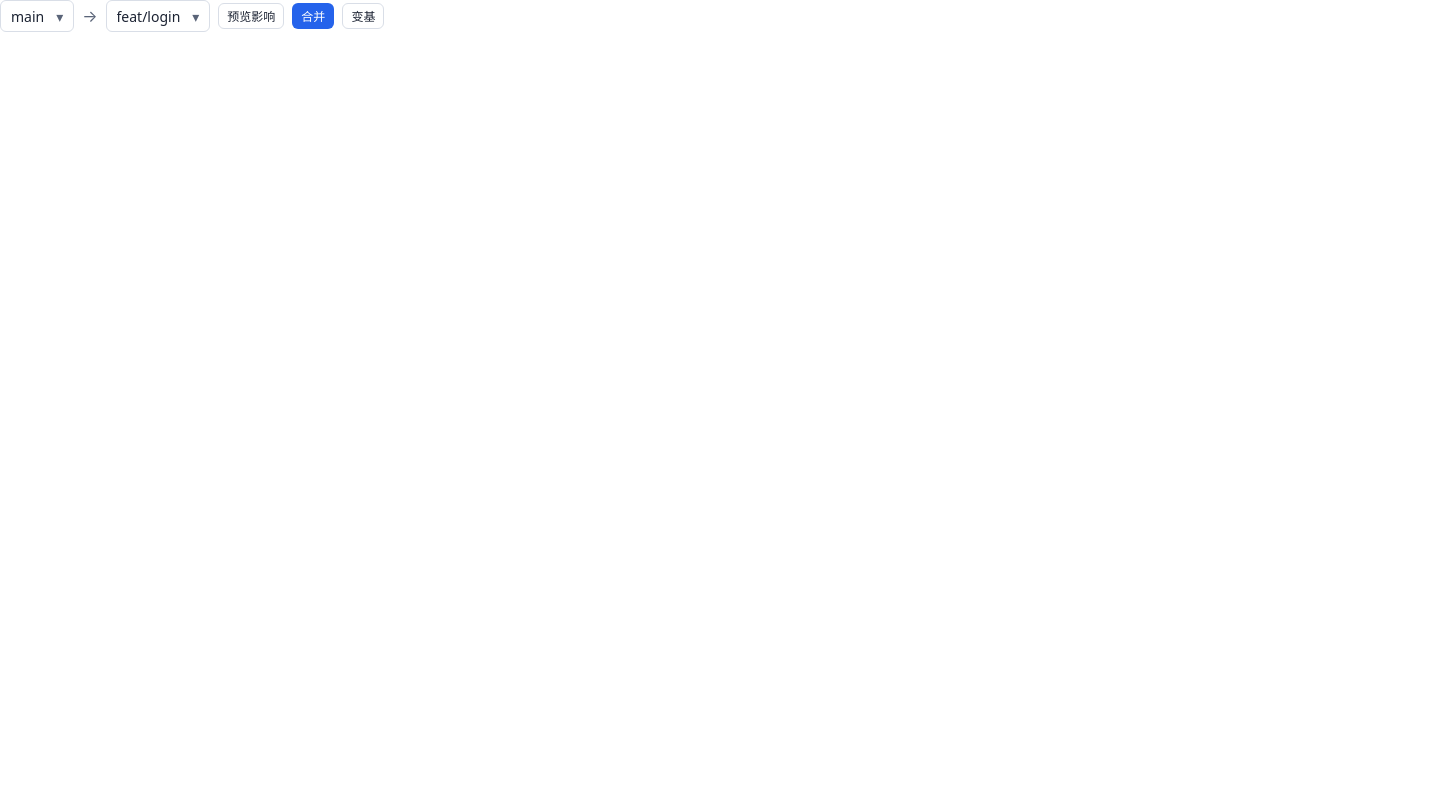
it: MergePanel（T6-04 合并） › 合并结果展示状态、冲突文件清单与备份分支
Click the button with test id "merge-start".
click(313, 16)  # box [292,3,334,29]
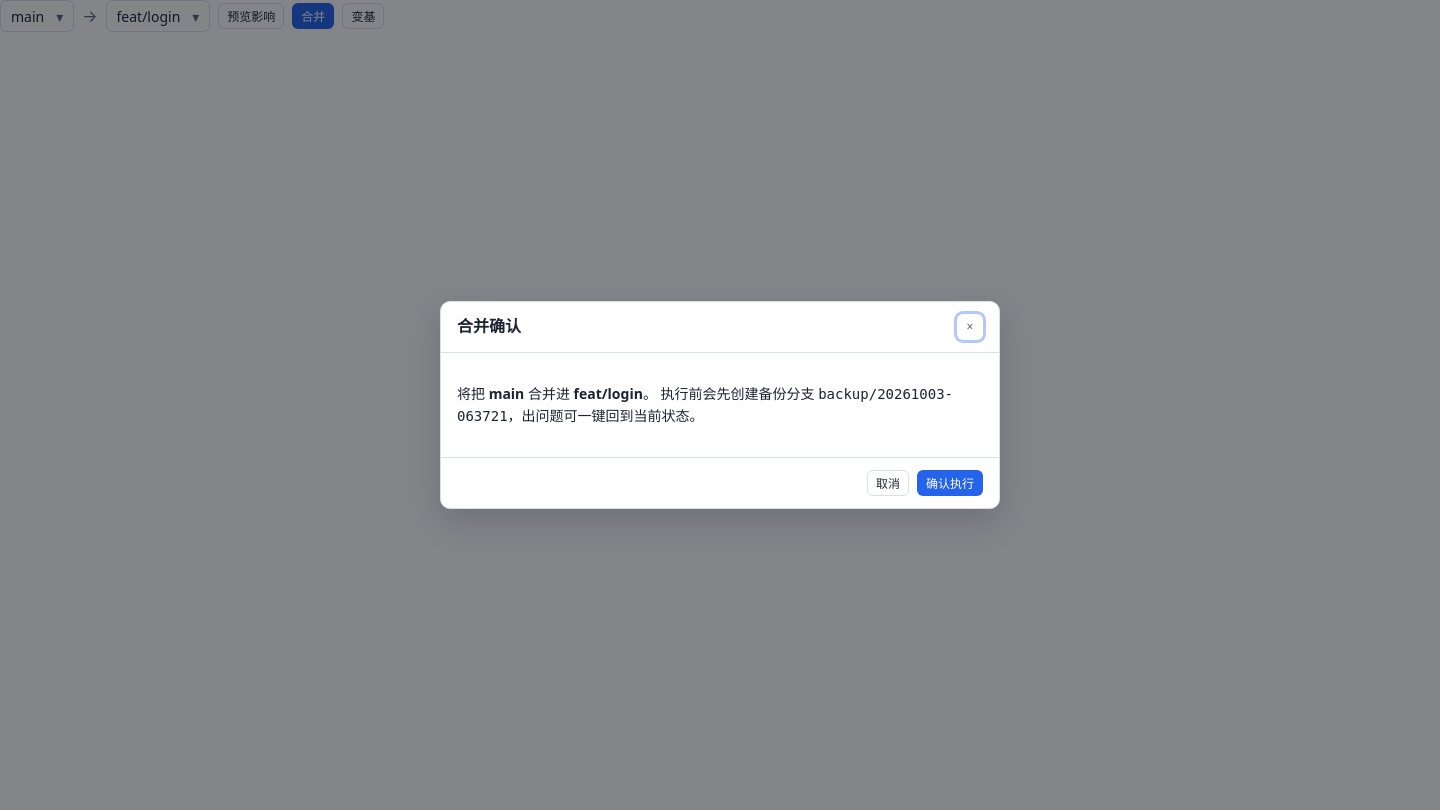
Click the button with test id "merge-confirm".
click(950, 483)  # box [917,470,983,496]
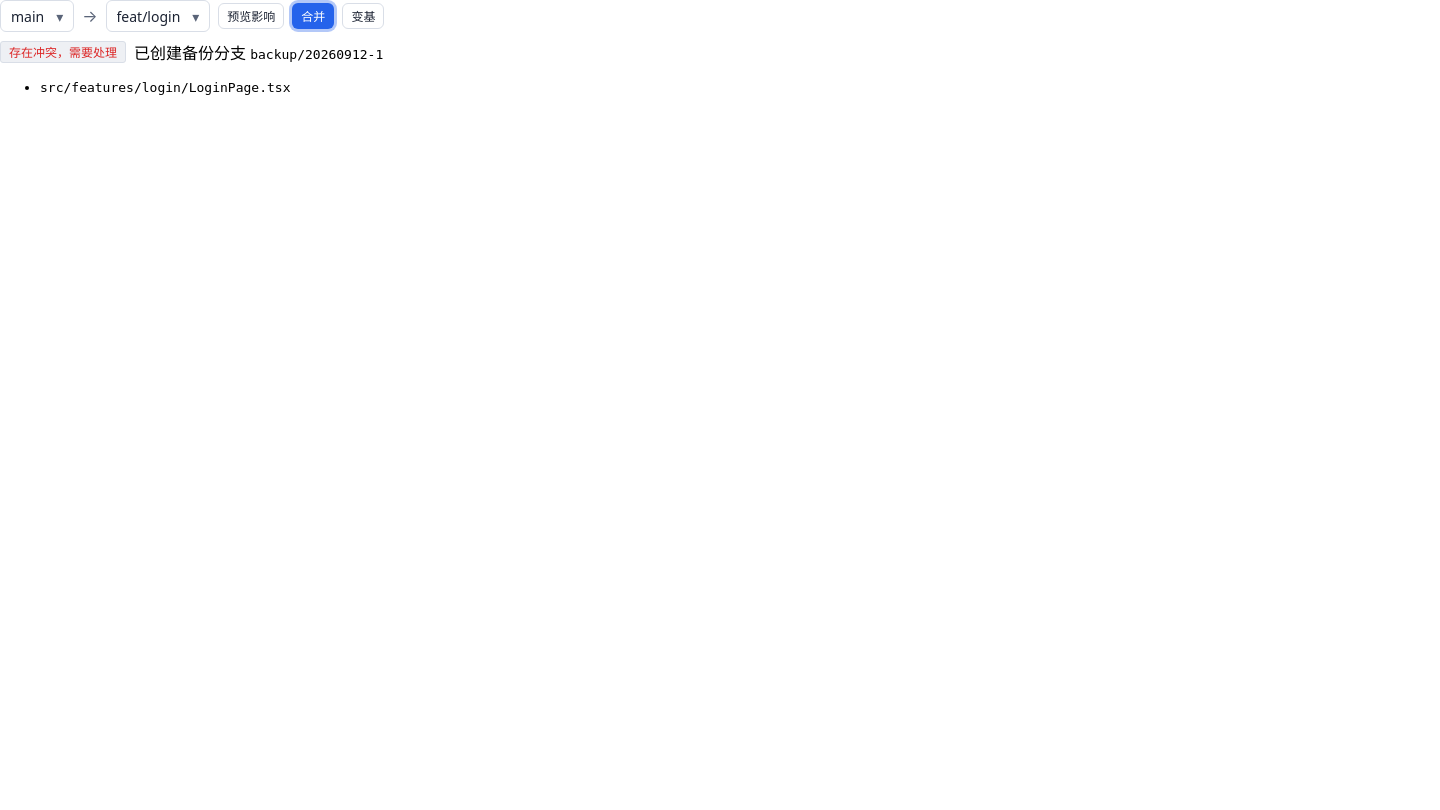
Now the element with test id "merge-outcome" shows "存在冲突，需要处理", box [9,44,117,61]
Now the list with test id "merge-conflict-files" reads "src/features/login/LoginPage.tsx", box [40,80,290,95]
Now the element with test id "merge-backup" shows "backup/20260912-1", box [250,47,383,62]
